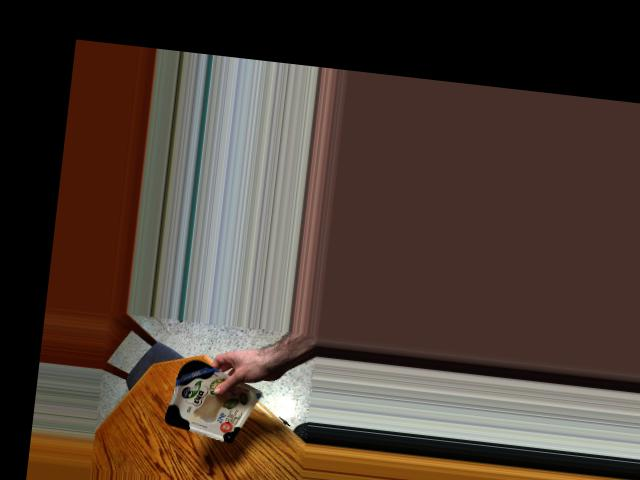cheese: (165, 360, 249, 442)
